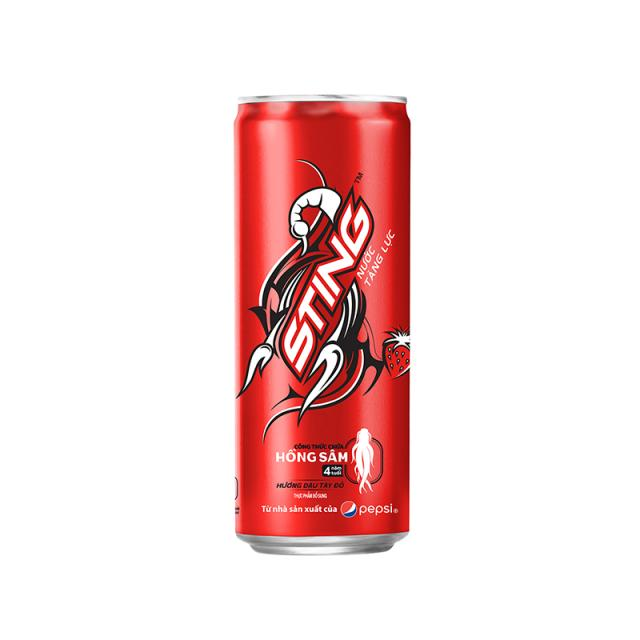metal: (234, 96, 412, 554)
